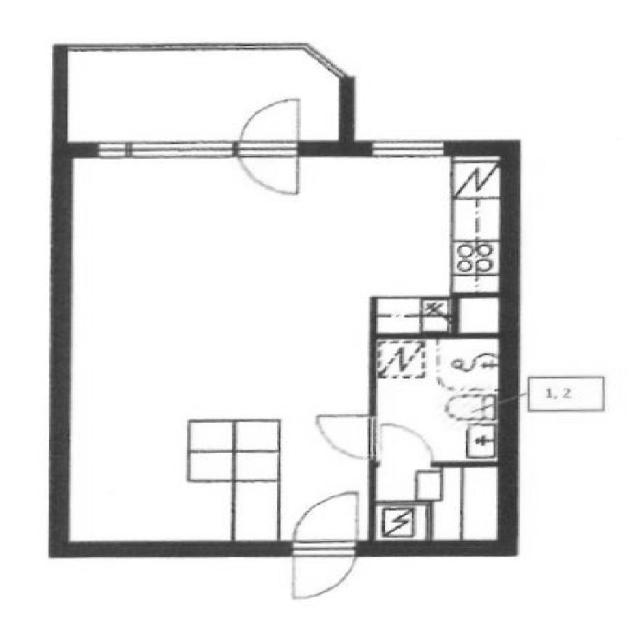door: (285, 490, 362, 603), (233, 97, 306, 199), (312, 410, 378, 463)
window: (87, 134, 241, 167), (360, 134, 452, 164)
zone: (63, 152, 373, 556), (374, 155, 510, 341), (369, 334, 504, 465), (525, 375, 605, 411)
